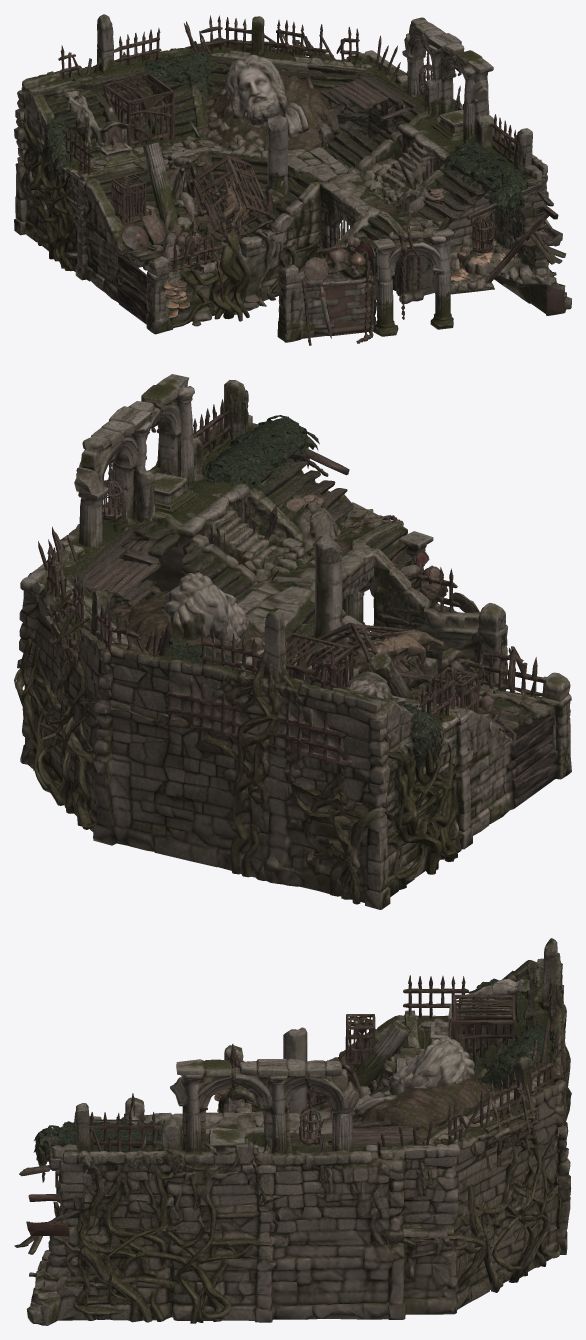
Rendered from arena_corner_2.glb.
3 renders of one model, top to bottom at view 1: azimuth 30°, elevation 25°; view 2: azimuth 150°, elevation 25°; view 3: azimuth 270°, elevation 25°, orthographic. The views are drawn at different scales.
Visible parts, largest first — view 1: mesh_node; view 2: mesh_node; view 3: mesh_node.
Boxes of the visible parts, <box> form: mesh_node: <box>14,14,571,345</box>; mesh_node: <box>14,374,571,909</box>; mesh_node: <box>14,938,571,1325</box>.
Bounding box in the file's own units: 1.64 × 0.9454 × 1.92.
1 material, 1 textured.
